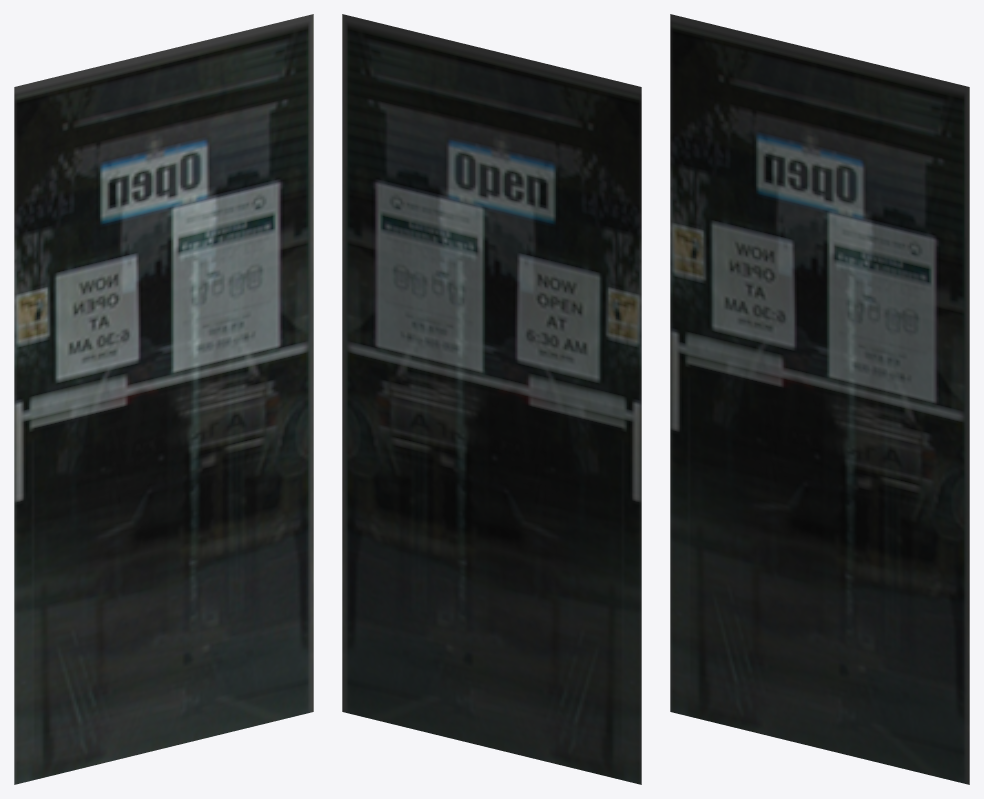
File: bldAcrossTheWay01_door32.fbx
3 views of the same model, side by side, from view 1: azimuth 30°, elevation 25°; view 2: azimuth 150°, elevation 25°; view 3: azimuth 330°, elevation 25° (orthographic).
Visible parts, largest first — view 1: bldAcrossTheWay01_door32; view 2: bldAcrossTheWay01_door32; view 3: bldAcrossTheWay01_door32.
Boxes of the visible parts, left/top/right/bottom form: bldAcrossTheWay01_door32: left=14, top=14, right=313, bottom=784; bldAcrossTheWay01_door32: left=342, top=14, right=641, bottom=784; bldAcrossTheWay01_door32: left=670, top=14, right=969, bottom=784.
Size of the model in its own units: 123 by 0 by 273.
1 material, 1 textured.
